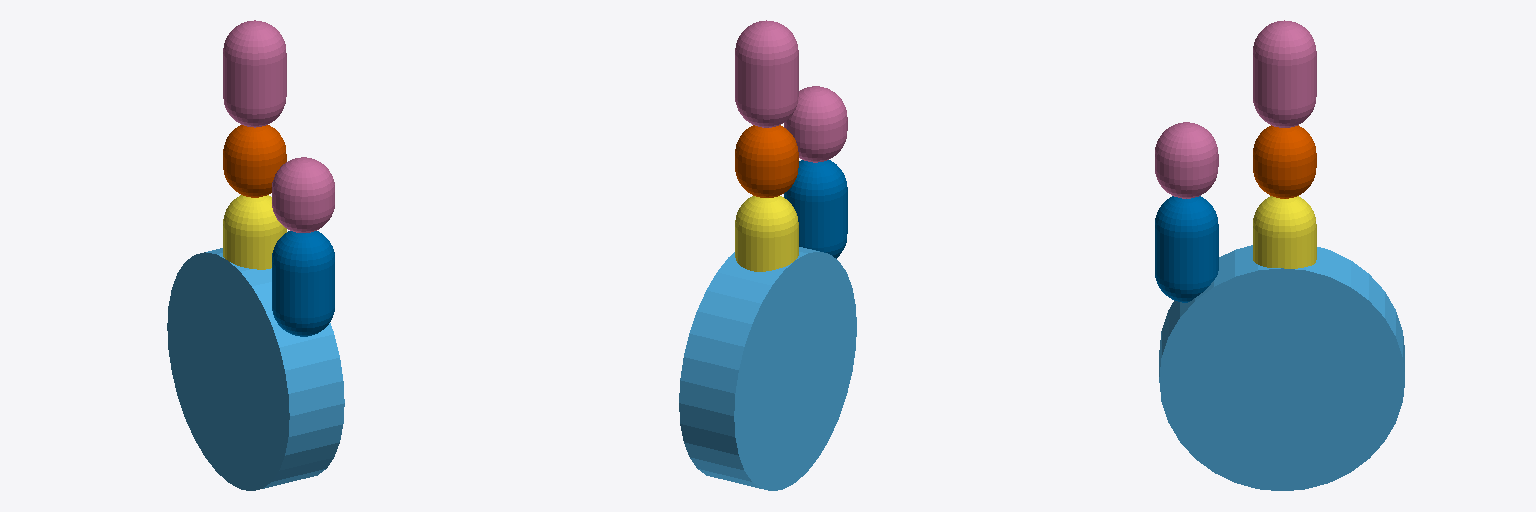
The robot description file, URDF, robot "DexterousHand":
<?xml version="1.0"?>
<robot name="DexterousHand">


    <link name="world"/>
    <joint name="world_to_palm" type="fixed">
        <parent link="world"/>
        <child link="palm"/>
        <origin xyz="0 0 0" rpy="0 0 0"/>
    </joint>
    <link name="palm">
        <inertial>
            <origin xyz="0 0 0.057" rpy="0 0 0"/>
            <mass value="0.30212892864"/>
            <inertia ixx="0.00049080844457568" ixy="0.0" ixz="0.0" iyy="0.00026746366246427523" iyz="0.0" izz="0.00026746366246427523"/>
        </inertial>
        <visual>
            <origin xyz="0 0 0.057" rpy="1.5708 0 1.5708"/>
            <geometry>
                <cylinder radius="0.057" length="0.0296"/>
            </geometry>
            <material name="default"/>
        </visual>
        <collision>
            <origin xyz="0 0 0.057" rpy="1.5708 0 1.5708"/>
            <geometry>
                <cylinder radius="0.057" length="0.0296"/>
            </geometry>
        </collision>
    </link>

    
    <joint name="thumb_joint1" type="revolute">
        <parent link="palm"/>
        <child link="thumb_base"/>
        <origin xyz="0.0 0.0 0.0" rpy="0.0 0.0 0.0"/>
        <axis xyz="1 0 0"/>
        <limit lower="0.0" upper="0.0" effort="1.0" velocity="1.0"/>
    </joint>

    <link name="thumb_base"></link>

    <joint name="thumb_joint2" type="revolute">
        <parent link="thumb_base"/>
        <child link="thumb_proximal"/>
        <origin xyz="0.0 0.0 0.0" rpy="0.0 0.0 0.0"/>
        <axis xyz="0 1 0"/>
        <limit lower="0.0" upper="0.0" effort="1.0" velocity="1.0"/>
    </joint>

    <link name="thumb_proximal">
    </link>

    <joint name="thumb_joint3" type="revolute">
        <parent link="thumb_proximal"/>
        <child link="thumb_knuckle"/>
        <origin xyz="0.0 0.0 0.0" rpy="0.0 0.0 0.0"/>
        <axis xyz="1 0 0"/>
        <limit lower="0.0" upper="0.0" effort="1.0" velocity="1.0"/>
    </joint>

    <link name="thumb_knuckle"></link>

    <joint name="thumb_joint4" type="revolute">
        <parent link="thumb_knuckle"/>
        <child link="thumb_middle"/>
        <origin xyz="0 0 0" rpy="0 0 0"/> 
        <axis xyz="0 1 0"/>
        <limit lower="0.0" upper="0.0" effort="1.0" velocity="1.0"/>
    </joint>

    <link name="thumb_middle">
    </link>

    <joint name="thumb_joint5" type="revolute">
        <parent link="thumb_middle"/>
        <child link="thumb_distal"/>
        <origin xyz="0 0 0" rpy="0 0 0"/> 
        <axis xyz="0 1 0"/>
        <limit lower="0.0" upper="0.0" effort="1.0" velocity="1.0"/>
    </joint>

    <link name="thumb_distal">
    </link>

    
    <joint name="index_joint1" type="revolute">
        <parent link="palm"/>
        <child link="index_proximal"/>
        <origin xyz="0.0 0.0 0.0" rpy="0.0 0.0 0.0"/>
        <axis xyz="1 0 0"/>
        <limit lower="0.0" upper="0.0" effort="1.0" velocity="1.0"/>
    </joint>

    <link name="index_proximal">
    </link>

    <joint name="index_joint2" type="revolute">
        <parent link="index_proximal"/>
        <child link="index_dummy"/>
        <origin xyz="0.0 0.0 0.0" rpy="0.0 0.0 0.0"/>
        <axis xyz="0 1 0"/>
        <limit lower="0.0" upper="0.0" effort="1.0" velocity="1.0"/>
    </joint>

    <link name="index_dummy"></link>

    <joint name="index_joint3" type="revolute">
        <parent link="index_dummy"/>
        <child link="index_middle"/>
        <origin xyz="0 0 0" rpy="0 0 0"/>
        <axis xyz="0 1 0"/>
        <limit lower="0.0" upper="0.0" effort="1.0" velocity="1.0"/>
    </joint>

    <link name="index_middle">
    </link>

    <joint name="index_joint4" type="revolute">
        <parent link="index_middle"/>
        <child link="index_distal"/>
        <origin xyz="0 0 0" rpy="0 0 0"/> 
        <axis xyz="0 1 0"/>
        <limit lower="0.0" upper="0.0" effort="1.0" velocity="1.0"/>
    </joint>

    <link name="index_distal">
    </link>

    
    <joint name="middle_joint1" type="revolute">
        <parent link="palm"/>
        <child link="middle_proximal"/>
        <origin xyz="0.0 0.0011 0.091" rpy="0.0 0.0 0.0"/>
        <axis xyz="0 1 0"/>
        <limit lower="-0.314" upper="2.23" effort="1.0" velocity="1.0"/>
    </joint>

    <link name="middle_proximal">
        <inertial>
            <origin xyz="0 0 0.02655" rpy="0 0 0"/>
            <mass value="0.036540024998400006"/>
            <inertia ixx="1.058665009272394e-05" ixy="0.0" ixz="0.0" 
            iyy="1.058665009272394e-05" iyz="0.0" izz="4.001863537824769e-06"/>
        </inertial>
        <visual>
            <origin xyz="0 0 0.02655" rpy="0 0 0"/>
            <geometry>
                <cylinder radius="0.0148" length="0.0235"/>
            </geometry>
            <material name="default"/>
        </visual>
        <visual>
            <origin xyz="0 0 0.0148" rpy="0 0 0"/>
            <geometry>
                <sphere radius="0.0148"/>
            </geometry>
            <material name="default"/>
        </visual>
        <visual>
            <origin xyz="0 0 0.0383" rpy="0 0 0"/>
            <geometry>
                <sphere radius="0.0148"/>
            </geometry>
            <material name="default"/>
        </visual>
        <collision>
            <origin xyz="0 0 0.02655" rpy="0 0 0"/>
            <geometry>
                <cylinder radius="0.0148" length="0.0235"/>
            </geometry>
        </collision>
        <collision>
            <origin xyz="0 0 0.0148" rpy="0 0 0"/>
            <geometry>
                <sphere radius="0.0148"/>
            </geometry>
        </collision>
        <collision>
            <origin xyz="0 0 0.0383" rpy="0 0 0"/>
            <geometry>
                <sphere radius="0.0148"/>
            </geometry>
        </collision>
    </link>

    <joint name="middle_joint2" type="revolute">
        <parent link="middle_proximal"/>
        <child link="middle_dummy"/>
        <origin xyz="0.0 0.0 0.038" rpy="0.0 0.0 0.0"/>
        <axis xyz="1 0 0"/>
        <limit lower="-1.047" upper="1.047" effort="1.0" velocity="1.0"/>
    </joint>

    <link name="middle_dummy"></link>

    <joint name="middle_joint3" type="revolute">
        <parent link="middle_dummy"/>
        <child link="middle_middle"/>
        <origin xyz="0 0 0.015100000000000002" rpy="0 0 0"/>
        <axis xyz="0 1 0"/>
        <limit lower="-0.506" upper="1.885" effort="1.0" velocity="1.0"/>
    </joint>

    <link name="middle_middle">
        <inertial>
            <origin xyz="0 0 0.01805" rpy="0 0 0"/>
            <mass value="0.0248417119104"/>
            <inertia ixx="4.058162759109537e-06" ixy="0.0" ixz="0.0" 
            iyy="4.058162759109537e-06" iyz="0.0" izz="2.7206642884270085e-06"/>
        </inertial>
        <visual>
            <origin xyz="0 0 0.01805" rpy="0 0 0"/>
            <geometry>
                <cylinder radius="0.0148" length="0.006499999999999999"/>
            </geometry>
            <material name="default"/>
        </visual>
        <visual>
            <origin xyz="0 0 0.0148" rpy="0 0 0"/>
            <geometry>
                <sphere radius="0.0148"/>
            </geometry>
            <material name="default"/>
        </visual>
        <visual>
            <origin xyz="0 0 0.0213" rpy="0 0 0"/>
            <geometry>
                <sphere radius="0.0148"/>
            </geometry>
            <material name="default"/>
        </visual>
        <collision>
            <origin xyz="0 0 0.01805" rpy="0 0 0"/>
            <geometry>
                <cylinder radius="0.0148" length="0.006499999999999999"/>
            </geometry>
        </collision>
        <collision>
            <origin xyz="0 0 0.0148" rpy="0 0 0"/>
            <geometry>
                <sphere radius="0.0148"/>
            </geometry>
        </collision>
        <collision>
            <origin xyz="0 0 0.0213" rpy="0 0 0"/>
            <geometry>
                <sphere radius="0.0148"/>
            </geometry>
        </collision>
    </link>

    <joint name="middle_joint4" type="revolute">
        <parent link="middle_middle"/>
        <child link="middle_distal"/>
        <origin xyz="0 0 0.0361" rpy="0 0 0"/> 
        <axis xyz="0 1 0"/>
        <limit lower="-0.366" upper="2.042" effort="1.0" velocity="1.0"/>
    </joint>

    <link name="middle_distal">
        <inertial>
            <origin xyz="0 0 0.026" rpy="0 0 0"/>
            <mass value="0.035783075328"/>
            <inertia ixx="1.002260084553728e-05" ixy="0.0" ixz="0.0" 
            iyy="1.002260084553728e-05" iyz="0.0" izz="3.91896240992256e-06"/>
        </inertial>
        <visual>
            <origin xyz="0 0 0.026" rpy="0 0 0"/>
            <geometry>
                <cylinder radius="0.0148" length="0.022399999999999996"/>
            </geometry>
            <material name="default"/>
        </visual>
        <visual>
            <origin xyz="0 0 0.0148" rpy="0 0 0"/>
            <geometry>
                <sphere radius="0.0148"/>
            </geometry>
            <material name="default"/>
        </visual>
        <visual>
            <origin xyz="0 0 0.0372" rpy="0 0 0"/>
            <geometry>
                <sphere radius="0.0148"/>
            </geometry>
            <material name="default"/>
        </visual>
        <collision>
            <origin xyz="0 0 0.026" rpy="0 0 0"/>
            <geometry>
                <cylinder radius="0.0148" length="0.022399999999999996"/>
            </geometry>
        </collision>
        <collision>
            <origin xyz="0 0 0.0148" rpy="0 0 0"/>
            <geometry>
                <sphere radius="0.0148"/>
            </geometry>
        </collision>
        <collision>
            <origin xyz="0 0 0.0372" rpy="0 0 0"/>
            <geometry>
                <sphere radius="0.0148"/>
            </geometry>
        </collision>
    </link>

    
    <joint name="ring_joint1" type="revolute">
        <parent link="palm"/>
        <child link="ring_proximal"/>
        <origin xyz="0.0 0.0 0.0" rpy="0.0 0.0 0.0"/>
        <axis xyz="1 0 0"/>
        <limit lower="0.0" upper="0.0" effort="1.0" velocity="1.0"/>
    </joint>

    <link name="ring_proximal">
    </link>

    <joint name="ring_joint2" type="revolute">
        <parent link="ring_proximal"/>
        <child link="ring_dummy"/>
        <origin xyz="0.0 0.0 0.0" rpy="0.0 0.0 0.0"/>
        <axis xyz="0 1 0"/>
        <limit lower="0.0" upper="0.0" effort="1.0" velocity="1.0"/>
    </joint>

    <link name="ring_dummy"></link>

    <joint name="ring_joint3" type="revolute">
        <parent link="ring_dummy"/>
        <child link="ring_middle"/>
        <origin xyz="0 0 0" rpy="0 0 0"/>
        <axis xyz="0 1 0"/>
        <limit lower="0.0" upper="0.0" effort="1.0" velocity="1.0"/>
    </joint>

    <link name="ring_middle">
    </link>

    <joint name="ring_joint4" type="revolute">
        <parent link="ring_middle"/>
        <child link="ring_distal"/>
        <origin xyz="0 0 0" rpy="0 0 0"/> 
        <axis xyz="0 1 0"/>
        <limit lower="0.0" upper="0.0" effort="1.0" velocity="1.0"/>
    </joint>

    <link name="ring_distal">
    </link>

    
    <joint name="little_joint0" type="revolute">
        <parent link="palm"/>
        <child link="little_base"/>
        <origin xyz="0.0 0.0 0.0" rpy="0.0 0.0 0.0"/>
        <axis xyz="0 1 0"/>
        <limit lower="0.0" upper="0.0" effort="1.0" velocity="1.0"/>
    </joint>

    <link name="little_base"></link>

    <joint name="little_joint1" type="revolute">
        <parent link="little_base"/>
        <child link="little_proximal"/>
        <origin xyz="0.0 -0.0443 0.091" rpy="-0.0 -0.0 -0.0"/>
        <axis xyz="0 1 0"/>
        <limit lower="-0.314" upper="2.23" effort="1.0" velocity="1.0"/>
    </joint>

    <link name="little_proximal">
        <inertial>
            <origin xyz="0 0 0.02655" rpy="0 0 0"/>
            <mass value="0.036540024998400006"/>
            <inertia ixx="1.058665009272394e-05" ixy="0.0" ixz="0.0" 
            iyy="1.058665009272394e-05" iyz="0.0" izz="4.001863537824769e-06"/>
        </inertial>
        <visual>
            <origin xyz="0 0 0.02655" rpy="0 0 0"/>
            <geometry>
                <cylinder radius="0.0148" length="0.0235"/>
            </geometry>
            <material name="default"/>
        </visual>
        <visual>
            <origin xyz="0 0 0.0148" rpy="0 0 0"/>
            <geometry>
                <sphere radius="0.0148"/>
            </geometry>
            <material name="default"/>
        </visual>
        <visual>
            <origin xyz="0 0 0.0383" rpy="0 0 0"/>
            <geometry>
                <sphere radius="0.0148"/>
            </geometry>
            <material name="default"/>
        </visual>
        <collision>
            <origin xyz="0 0 0.02655" rpy="0 0 0"/>
            <geometry>
                <cylinder radius="0.0148" length="0.0235"/>
            </geometry>
        </collision>
        <collision>
            <origin xyz="0 0 0.0148" rpy="0 0 0"/>
            <geometry>
                <sphere radius="0.0148"/>
            </geometry>
        </collision>
        <collision>
            <origin xyz="0 0 0.0383" rpy="0 0 0"/>
            <geometry>
                <sphere radius="0.0148"/>
            </geometry>
        </collision>
    </link>

    <joint name="little_joint2" type="revolute">
        <parent link="little_proximal"/>
        <child link="little_dummy"/>
        <origin xyz="0.0 0.0 0.038" rpy="0.0 0.0 0.0"/>
        <axis xyz="1 0 0"/>
        <limit lower="-1.047" upper="1.047" effort="1.0" velocity="1.0"/>
    </joint>

    <link name="little_dummy"></link>

    <joint name="little_joint3" type="revolute">
        <parent link="little_dummy"/>
        <child link="little_middle"/>
        <origin xyz="0 0 0.015100000000000002" rpy="0 0 0"/>
        <axis xyz="0 1 0"/>
        <limit lower="-0.506" upper="1.885" effort="1.0" velocity="1.0"/>
    </joint>

    <link name="little_middle">
        <inertial>
            <origin xyz="0 0 0.01805" rpy="0 0 0"/>
            <mass value="0.0248417119104"/>
            <inertia ixx="4.058162759109537e-06" ixy="0.0" ixz="0.0" 
            iyy="4.058162759109537e-06" iyz="0.0" izz="2.7206642884270085e-06"/>
        </inertial>
        <visual>
            <origin xyz="0 0 0.01805" rpy="0 0 0"/>
            <geometry>
                <cylinder radius="0.0148" length="0.006499999999999999"/>
            </geometry>
            <material name="default"/>
        </visual>
        <visual>
            <origin xyz="0 0 0.0148" rpy="0 0 0"/>
            <geometry>
                <sphere radius="0.0148"/>
            </geometry>
            <material name="default"/>
        </visual>
        <visual>
            <origin xyz="0 0 0.0213" rpy="0 0 0"/>
            <geometry>
                <sphere radius="0.0148"/>
            </geometry>
            <material name="default"/>
        </visual>
        <collision>
            <origin xyz="0 0 0.01805" rpy="0 0 0"/>
            <geometry>
                <cylinder radius="0.0148" length="0.006499999999999999"/>
            </geometry>
        </collision>
        <collision>
            <origin xyz="0 0 0.0148" rpy="0 0 0"/>
            <geometry>
                <sphere radius="0.0148"/>
            </geometry>
        </collision>
        <collision>
            <origin xyz="0 0 0.0213" rpy="0 0 0"/>
            <geometry>
                <sphere radius="0.0148"/>
            </geometry>
        </collision>
    </link>

    <joint name="little_joint4" type="revolute">
        <parent link="little_middle"/>
        <child link="little_distal"/>
        <origin xyz="0 0 0.0361" rpy="0 0 0"/>
        <axis xyz="0 1 0"/>
        <limit lower="0.0" upper="0.0" effort="1.0" velocity="1.0"/>
    </joint>

    <link name="little_distal">
    </link>

</robot>

--- Facts derived from the render (not from the file) ---
Views: 3 orthographic renders of the robot side by side, from view 1: azimuth 30°, elevation 25°; view 2: azimuth 150°, elevation 25°; view 3: azimuth 270°, elevation 25°.
Model DexterousHand with 24 links and 23 joints (22 revolute, 1 fixed), rooted at world, posed every joint at zero.
Links seen in each view (by area): view 1: palm, middle_distal, little_proximal, little_middle, middle_middle, middle_proximal; view 2: palm, middle_distal, little_proximal, middle_proximal, middle_middle, little_middle; view 3: palm, middle_distal, little_proximal, middle_proximal, little_middle, middle_middle.
Link boxes in pixels (bbox=[...]): palm: bbox=[167, 248, 344, 490]; middle_distal: bbox=[223, 20, 286, 127]; little_proximal: bbox=[272, 231, 334, 336]; little_middle: bbox=[272, 157, 334, 232]; middle_middle: bbox=[223, 125, 286, 197]; middle_proximal: bbox=[223, 195, 286, 269]; palm: bbox=[679, 247, 856, 490]; middle_distal: bbox=[735, 20, 798, 127]; little_proximal: bbox=[784, 160, 847, 258]; middle_proximal: bbox=[735, 196, 798, 271]; middle_middle: bbox=[735, 125, 798, 197]; little_middle: bbox=[784, 86, 847, 162]; palm: bbox=[1159, 245, 1404, 490]; middle_distal: bbox=[1253, 20, 1316, 127]; little_proximal: bbox=[1155, 196, 1218, 302]; middle_proximal: bbox=[1253, 196, 1316, 268]; little_middle: bbox=[1155, 122, 1218, 198]; middle_middle: bbox=[1253, 125, 1316, 198].
Size in the robot's own frame: 0.0296 by 0.1161 by 0.2322 metres.
Geometry: primitives only (box / cylinder / sphere), no mesh files.
